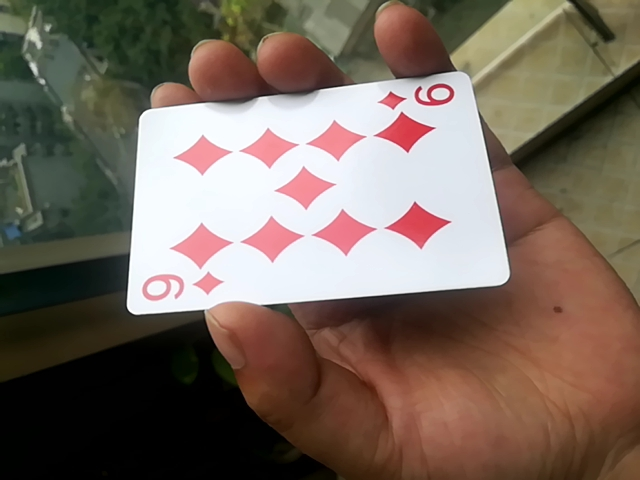fk 9: (127, 70, 505, 323)
